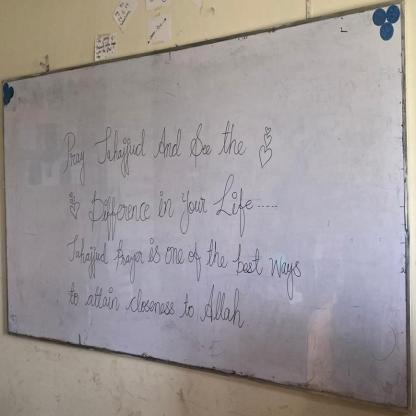Handwritten text: (43, 101, 256, 192), (57, 229, 305, 290), (82, 170, 257, 242), (60, 282, 251, 331)
